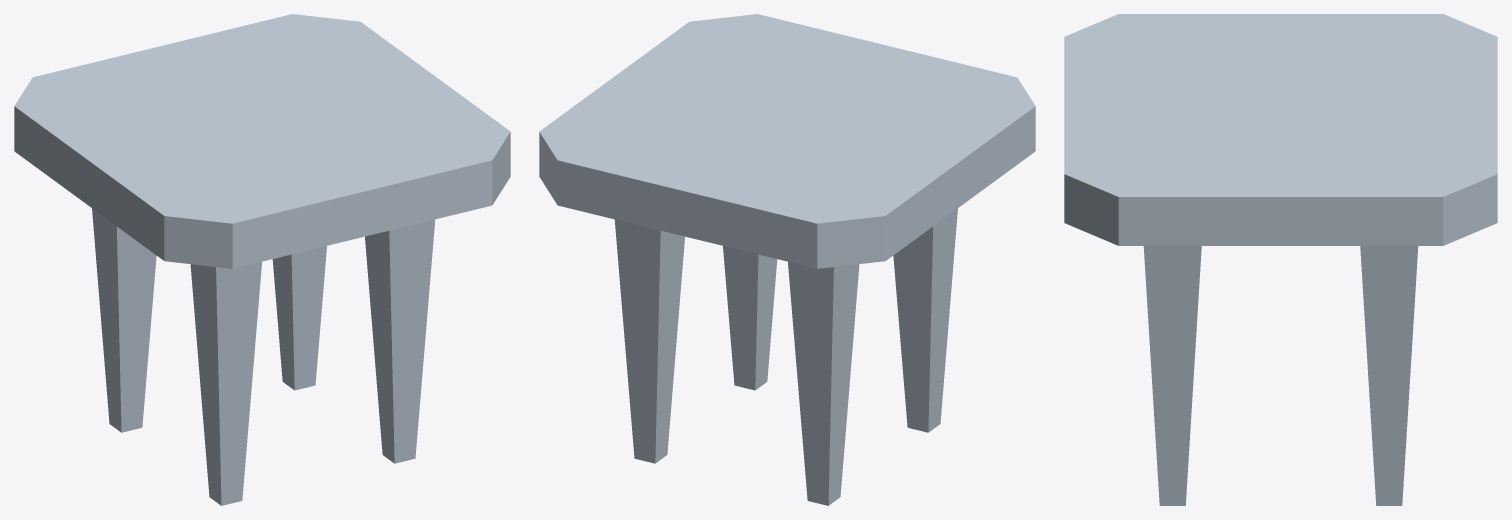
Rendered from Mesinha.fbx.
The picture shows the model from 3 angles, left to right: view 1: azimuth 30°, elevation 25°; view 2: azimuth 150°, elevation 25°; view 3: azimuth 270°, elevation 25°; orthographic projection. The views are drawn at different scales.
Visible parts, largest first — view 1: Mesinha; view 2: Mesinha; view 3: Mesinha.
Part boxes in pixels (<box>): Mesinha: <box>14,14,510,505</box>; Mesinha: <box>539,14,1035,505</box>; Mesinha: <box>1064,14,1497,505</box>.
Size of the model in its own units: 2 by 1.78 by 2.
